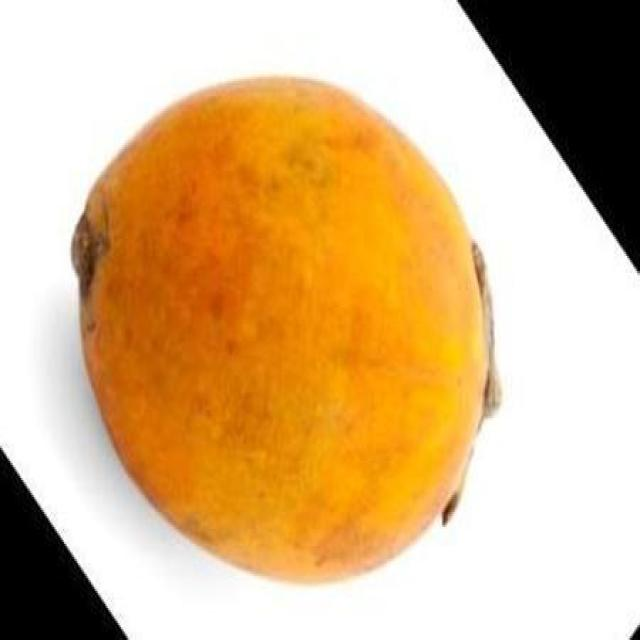good: (68, 77, 494, 589)
